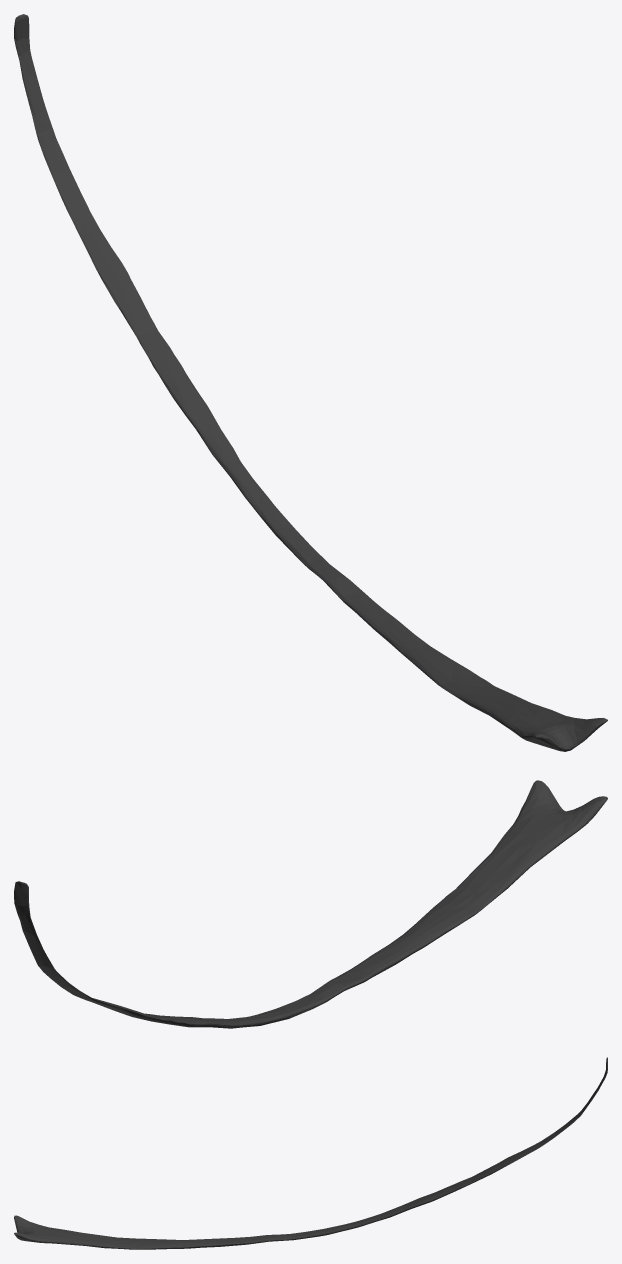
File: fascia_linea_alba.glb
3 renders of one model, top to bottom at view 1: azimuth 30°, elevation 25°; view 2: azimuth 150°, elevation 25°; view 3: azimuth 270°, elevation 25°, orthographic. The views are drawn at different scales.
Parts seen in each view (by area): view 1: fascia_linea_alba; view 2: fascia_linea_alba; view 3: fascia_linea_alba.
Part boxes in pixels (x1,y1,x2,y2): fascia_linea_alba: (14,14,607,751); fascia_linea_alba: (14,780,607,1028); fascia_linea_alba: (14,1057,607,1249).
Bounding box in the file's own units: 0.00121 × 0.00561 × 0.016.
1 material, 1 textured.
